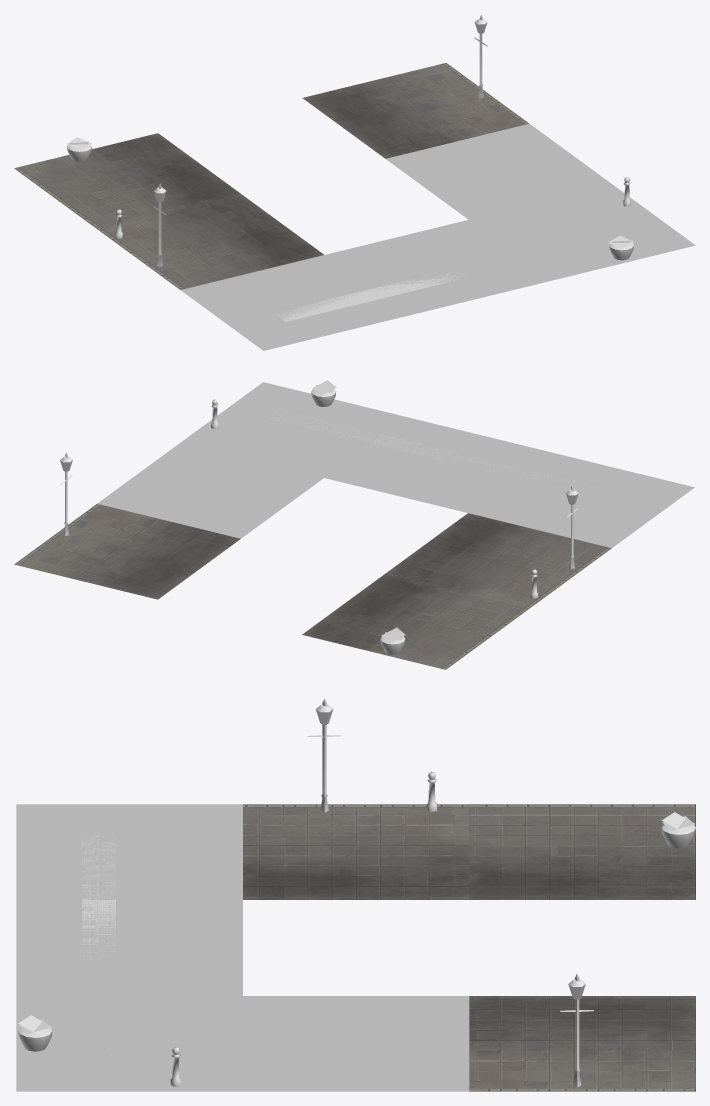
Rendered from propsonly_h12.gltf.
3 renders of one model, top to bottom at view 1: azimuth 30°, elevation 25°; view 2: azimuth 150°, elevation 25°; view 3: azimuth 270°, elevation 25°, orthographic. The views are drawn at different scales.
Parts seen in each view (by area): view 1: file_h12_center.001, file_h12_endr.001, file_h12_center3.002, file_h12_passm.001, file_h12_endl.003, file_h12_passr.001, file_h12_passl.002, FeedbackBlocker.004; view 2: file_h12_passm.001, file_h12_center.001, file_h12_endr.001, file_h12_passl.002, file_h12_center3.002, file_h12_passr.001, file_h12_endl.003, prop_flowerpot_h12_1, prop_flowerpot_h12_2; view 3: file_h12_center.001, file_h12_passl.002, file_h12_center3.002, file_h12_passm.001, file_h12_endr.001, file_h12_endl.003, file_h12_passr.001, FeedbackBlocker.004, prop_flowerpot_h12_2, prop_flowerpot_h12_1, prop_lightpost_h12_1, prop_lightpost_h12_2.
Part boxes in pixels (box(x1,y1,x2,y2)): file_h12_center.001: box(386, 123, 612, 219); file_h12_endr.001: box(303, 63, 528, 158); file_h12_center3.002: box(97, 194, 323, 289); file_h12_passm.001: box(325, 220, 551, 315); file_h12_endl.003: box(14, 133, 240, 228); file_h12_passr.001: box(469, 184, 695, 280); file_h12_passl.002: box(180, 255, 407, 350); FeedbackBlocker.004: box(278, 273, 464, 321); file_h12_passm.001: box(324, 417, 550, 512); file_h12_center.001: box(97, 443, 323, 538); file_h12_endr.001: box(14, 503, 240, 599); file_h12_passl.002: box(468, 452, 694, 547); file_h12_center3.002: box(385, 513, 611, 608); file_h12_passr.001: box(180, 382, 406, 477); file_h12_endl.003: box(302, 574, 528, 669); prop_flowerpot_h12_1: box(380, 627, 405, 654); prop_flowerpot_h12_2: box(311, 380, 336, 406); file_h12_center.001: box(243, 996, 469, 1091); file_h12_passl.002: box(16, 804, 242, 899); file_h12_center3.002: box(243, 804, 469, 899); file_h12_passm.001: box(16, 900, 242, 995); file_h12_endr.001: box(469, 996, 695, 1091); file_h12_endl.003: box(469, 804, 695, 899); file_h12_passr.001: box(16, 996, 242, 1091); FeedbackBlocker.004: box(82, 835, 115, 1061); prop_flowerpot_h12_2: box(18, 1015, 52, 1051); prop_flowerpot_h12_1: box(662, 812, 695, 848); prop_lightpost_h12_1: box(307, 698, 341, 812); prop_lightpost_h12_2: box(560, 974, 593, 1087).
Size of what is drawn, in the model's own units: 3 by 0.5482 by 3.01.
